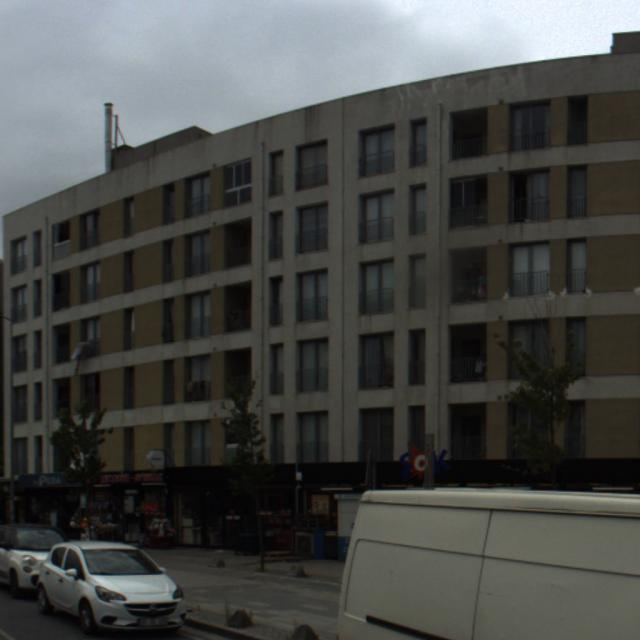SignStore: (376, 443, 516, 486), (93, 470, 165, 487), (19, 473, 82, 488)
